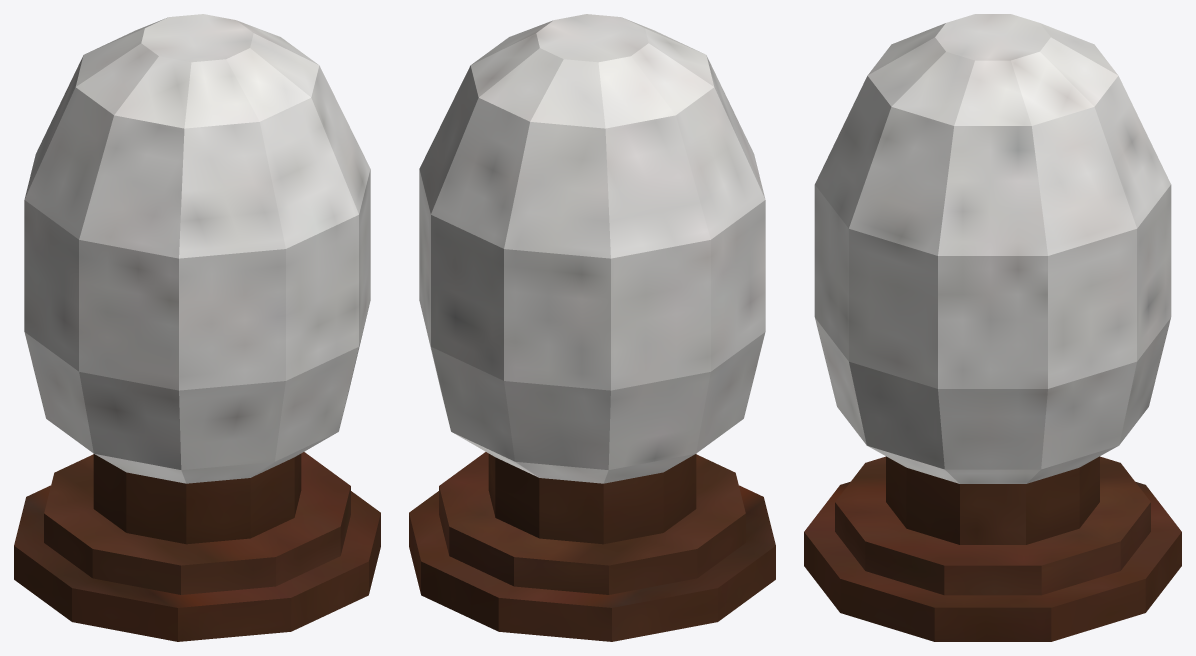
The model's file is table-lamp.fbx.
3 renders of one model, left to right at view 1: azimuth 30°, elevation 25°; view 2: azimuth 150°, elevation 25°; view 3: azimuth 270°, elevation 25°, orthographic.
Visible parts, largest first — view 1: Cylinder.002; view 2: Cylinder.002; view 3: Cylinder.002.
Part boxes in pixels (box(x1,y1,x2,y2)): Cylinder.002: box(14, 14, 380, 641); Cylinder.002: box(409, 14, 775, 641); Cylinder.002: box(804, 14, 1181, 641).
Size of the model in its own units: 38.04 by 61.77 by 40.
